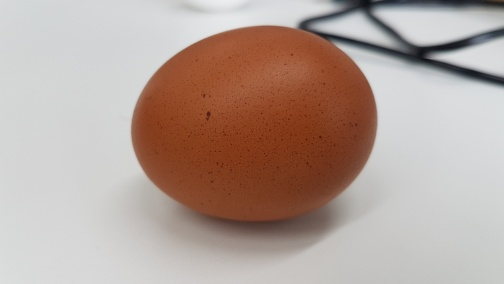egg: (125, 23, 381, 225)
